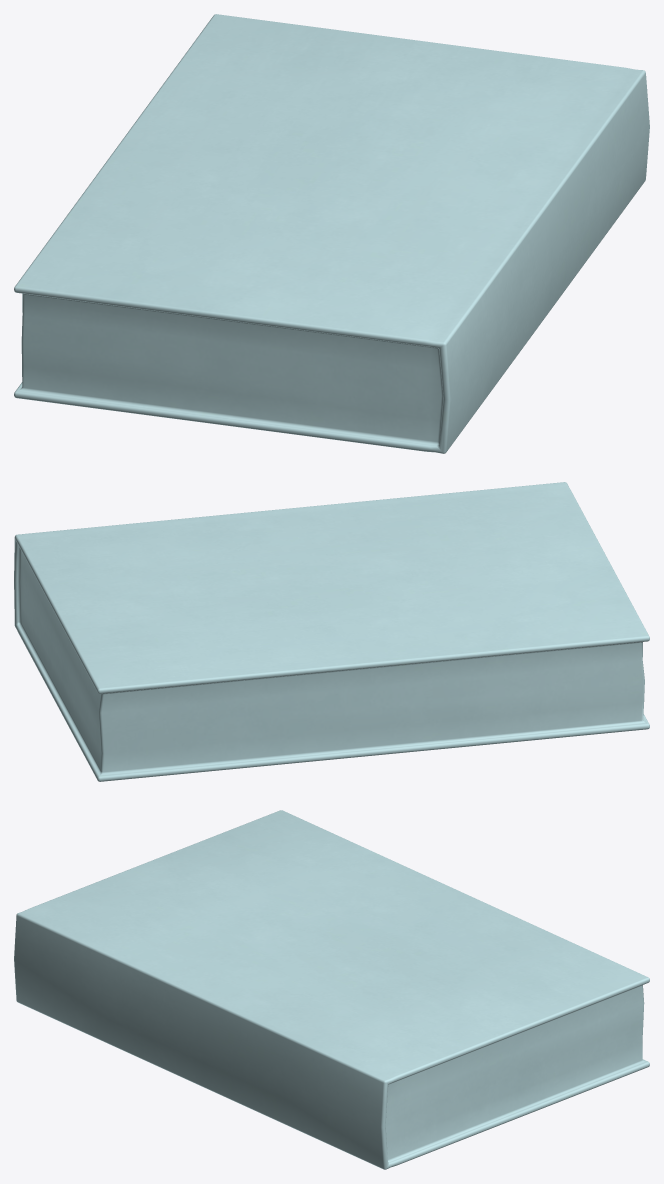
File: studyroom_46.obj
3 renders of one model, top to bottom at view 1: azimuth 30°, elevation 25°; view 2: azimuth 150°, elevation 25°; view 3: azimuth 270°, elevation 25°, orthographic. The views are drawn at different scales.
Size of the model in its own units: 0.2807 by 0.043 by 0.2765.
